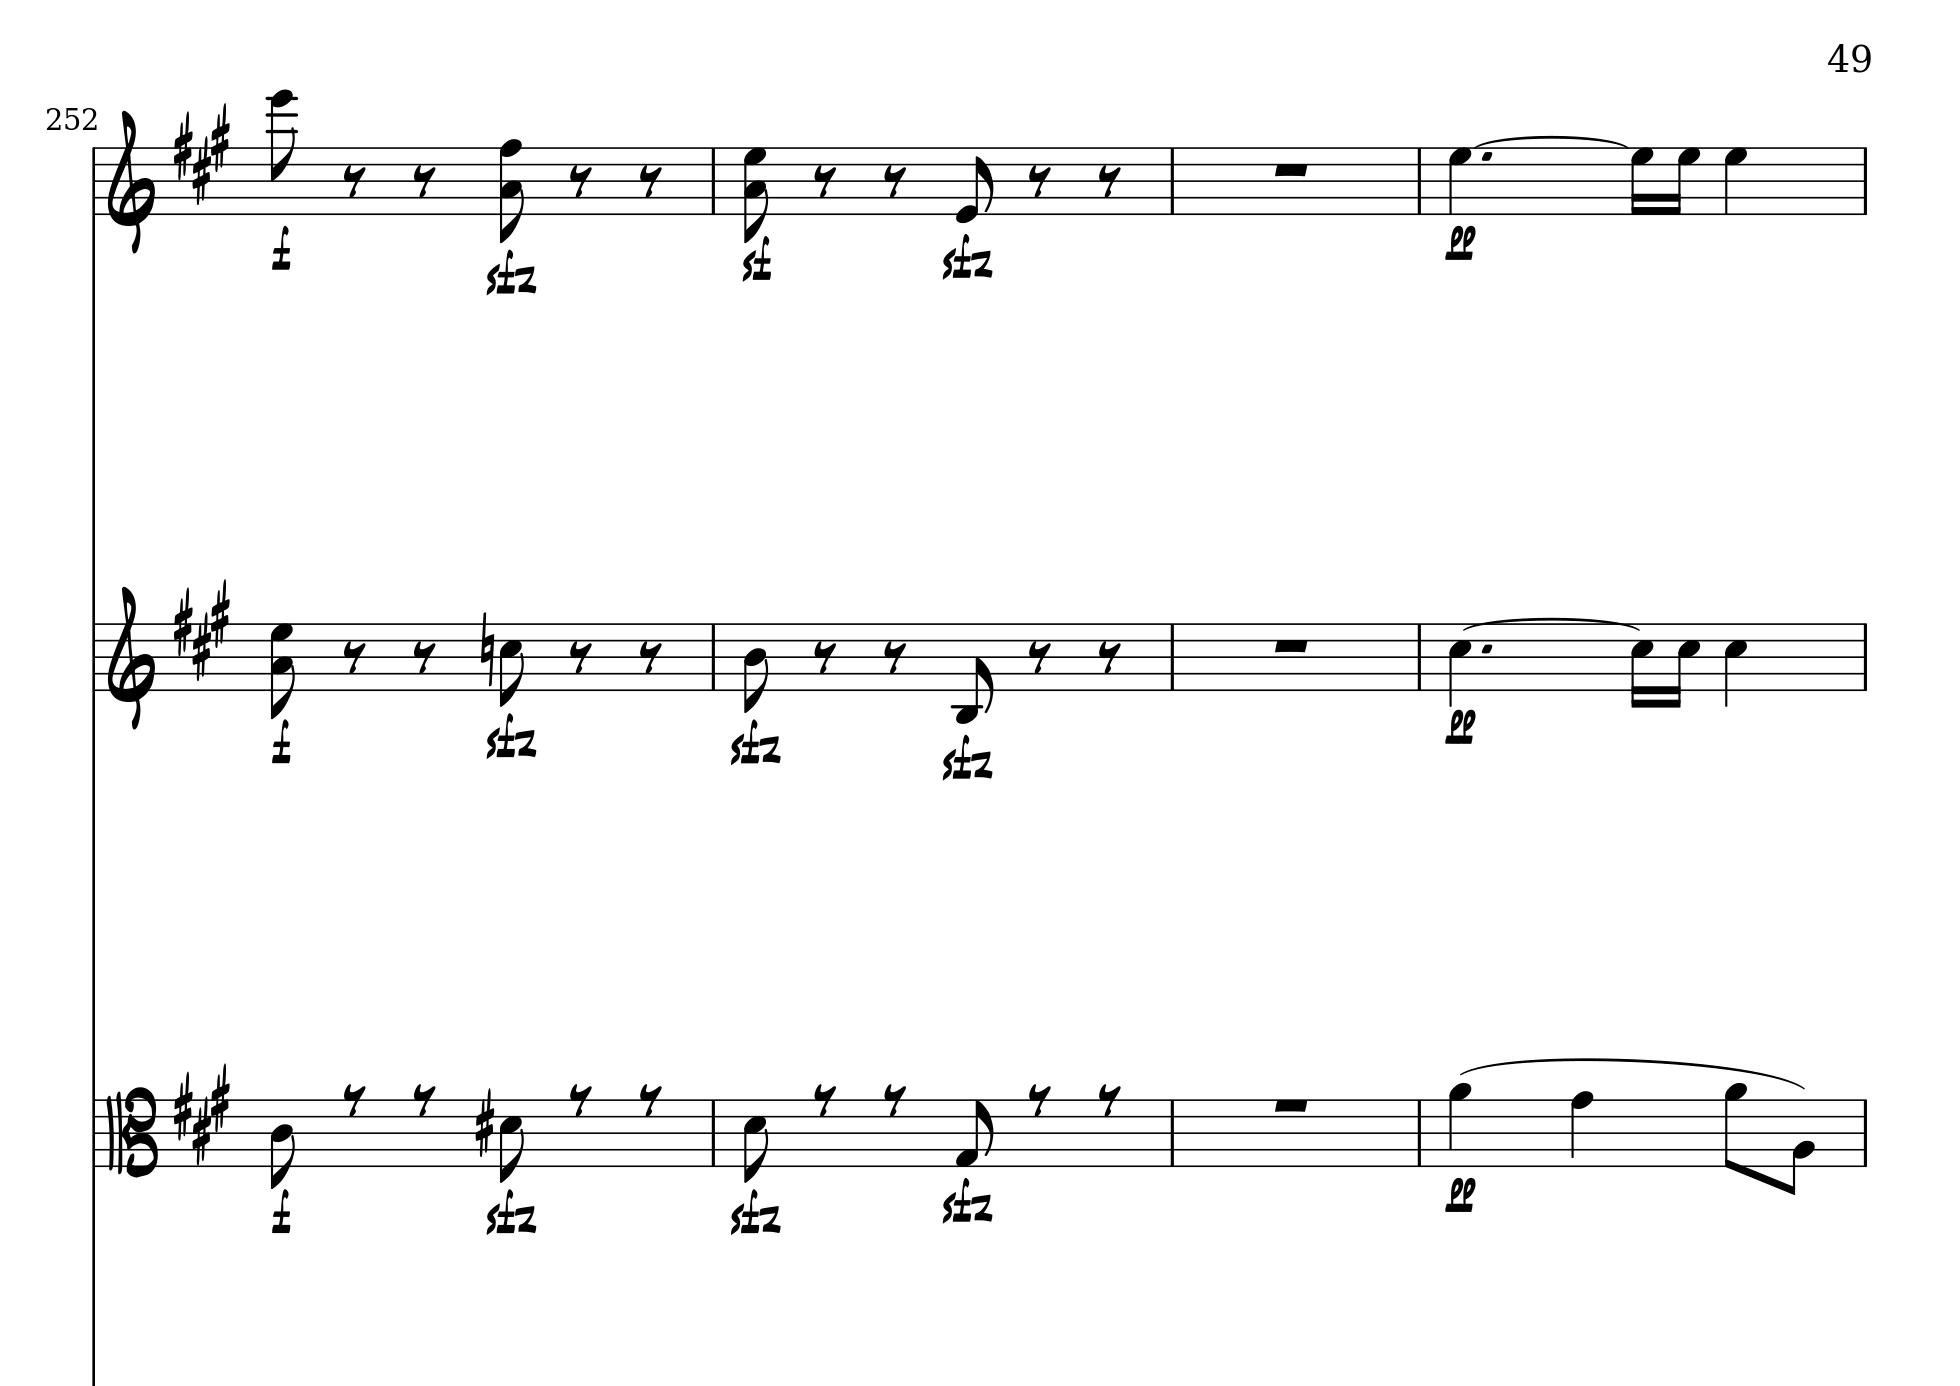16_5: (1671, 622, 1701, 709), (1630, 621, 1654, 709)
16_7: (1669, 145, 1701, 217), (1629, 144, 1654, 217)
2: (46, 106, 96, 132), (43, 105, 63, 132), (79, 105, 97, 130)
4: (1827, 40, 1849, 76)
4_5: (1725, 621, 1749, 709), (1449, 621, 1473, 706)
4_7: (1447, 145, 1476, 216), (1723, 145, 1749, 214)
4_8: (1569, 1089, 1594, 1168)
4_9: (1447, 1081, 1473, 1168)
5: (64, 103, 79, 132)
8_-3: (952, 621, 996, 724)
8_0: (955, 147, 996, 225)
8_1: (954, 1098, 996, 1168)
8_14: (265, 87, 300, 214)
8_2: (1782, 1095, 1816, 1198)
8_4: (742, 621, 771, 714), (268, 1096, 295, 1189)
8_5: (498, 1096, 525, 1183), (742, 1096, 769, 1183), (499, 621, 525, 706)
8_9: (1722, 1080, 1750, 1171)
9: (1851, 40, 1873, 75)
A_S: (172, 1060, 231, 1165), (172, 100, 231, 204), (172, 577, 231, 679)
Cclef: (103, 1083, 159, 1177)
Gclef: (105, 583, 157, 730), (106, 106, 157, 253)
Natural: (478, 610, 495, 685)
Rests1: (1270, 159, 1312, 178), (1270, 634, 1312, 654), (1270, 1095, 1312, 1114)
Rests8: (1095, 163, 1123, 198), (1095, 639, 1123, 673), (340, 163, 367, 198), (811, 163, 838, 198), (880, 163, 907, 198), (1026, 163, 1053, 198), (340, 639, 367, 673), (811, 639, 838, 673), (880, 639, 907, 673), (1026, 639, 1053, 673), (811, 1081, 838, 1116), (1027, 1081, 1053, 1117), (1096, 1081, 1122, 1117), (411, 163, 436, 198), (567, 163, 592, 198), (637, 163, 663, 198), (411, 639, 436, 673), (567, 639, 592, 673), (637, 639, 663, 673), (411, 1083, 436, 1117), (882, 1083, 907, 1117), (342, 1083, 367, 1116), (568, 1083, 592, 1117), (637, 1081, 661, 1116)
Sharp: (472, 1090, 495, 1158)
Single_barline: (1411, 1099, 1429, 1164), (1164, 147, 1180, 214), (1857, 147, 1873, 214), (1857, 622, 1873, 690), (1857, 1098, 1873, 1165), (1411, 147, 1428, 213), (705, 148, 721, 214), (1164, 1099, 1180, 1165), (1164, 624, 1180, 688), (85, 622, 100, 691), (85, 147, 100, 214), (85, 1098, 100, 1165), (706, 622, 721, 688), (1413, 624, 1428, 688), (706, 1099, 721, 1164)
dot: (1479, 640, 1494, 655), (1479, 150, 1495, 163)
f: (268, 223, 294, 273), (268, 1188, 294, 1237), (268, 718, 292, 766)
pp: (1443, 220, 1479, 259), (1443, 1174, 1479, 1213), (1444, 705, 1479, 742)
sf: (940, 232, 999, 286), (742, 235, 775, 283)
sfz: (940, 1177, 993, 1230), (486, 711, 541, 760), (484, 247, 537, 298), (940, 733, 996, 781), (730, 718, 783, 768), (730, 1189, 783, 1239), (486, 1188, 537, 1237)
